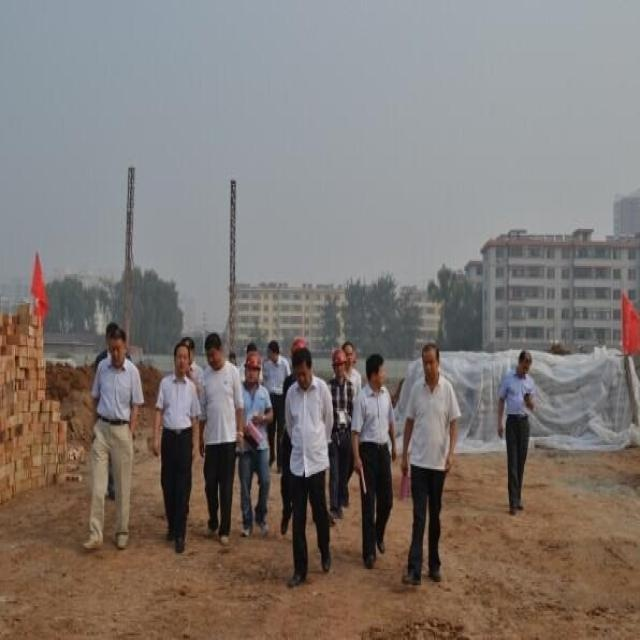Sin_Casco_Mascarrilla: (422, 341, 442, 381), (108, 328, 128, 368), (206, 332, 225, 372), (174, 343, 191, 379)
